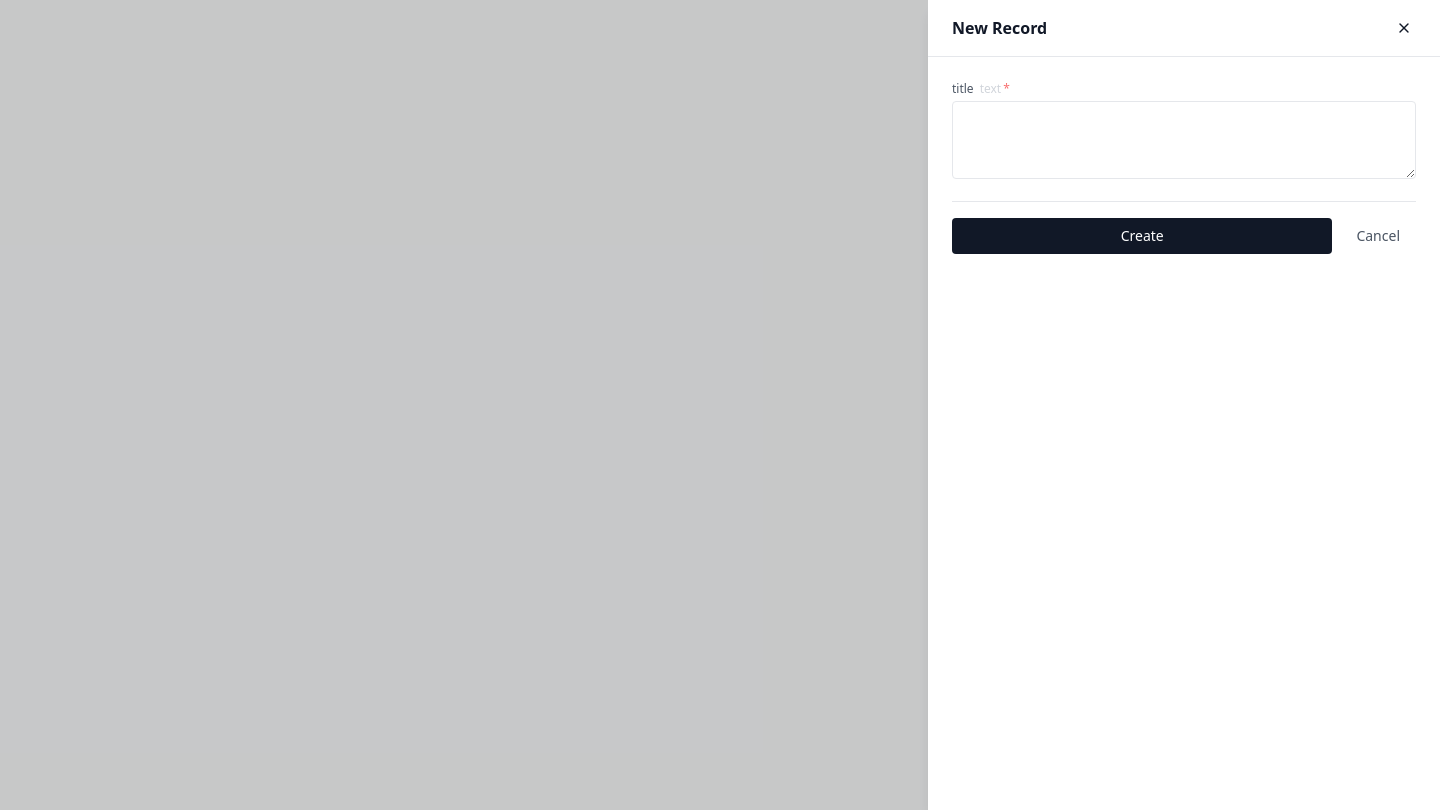
RecordForm › shows error on submit failure
The width and height of the screenshot is (1440, 810).
Type "test" into the text box labelled "titletext*" at (1184, 140), box x1=952 y1=101 x2=1416 y2=179
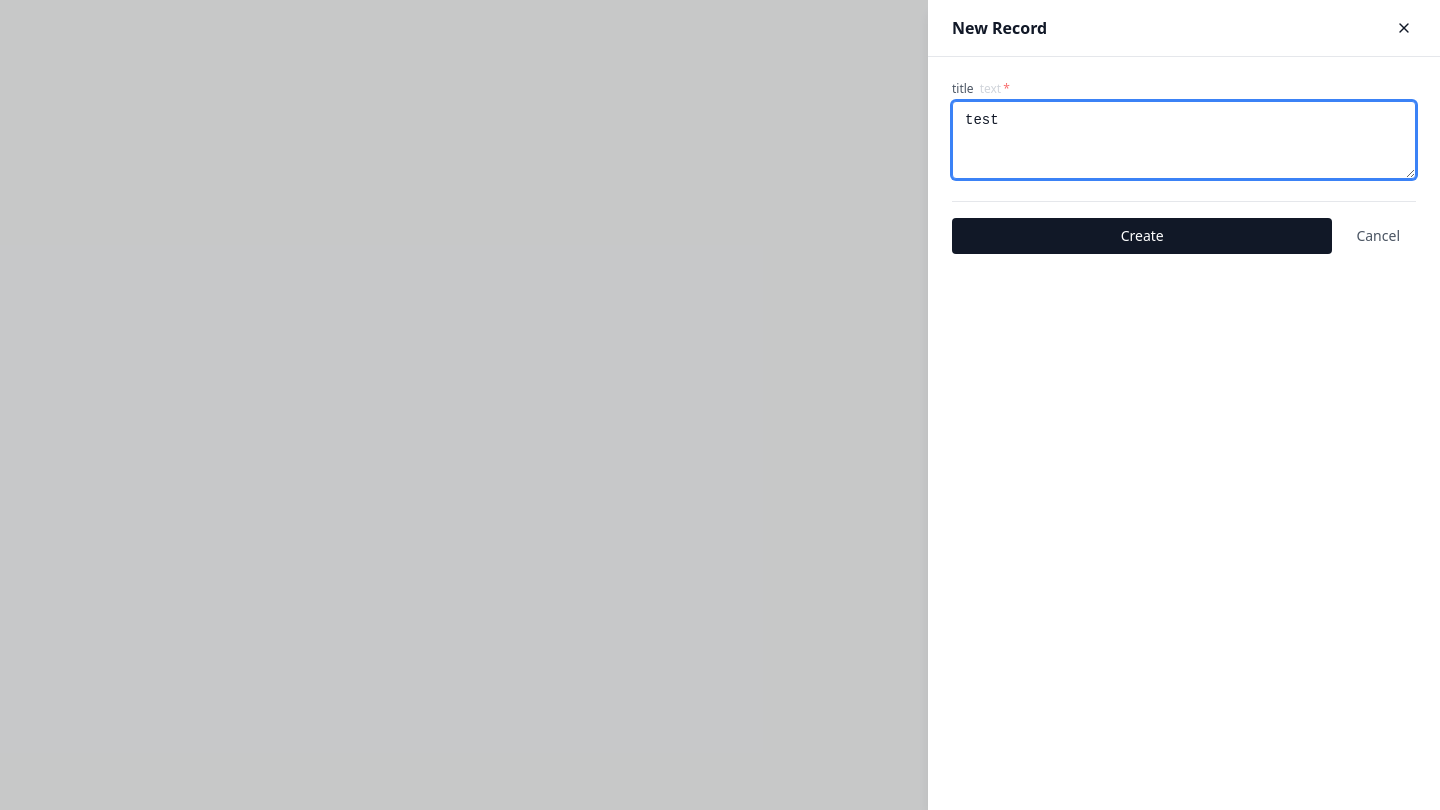
Click the button "Create" at (1142, 236), box x1=952 y1=218 x2=1332 y2=254
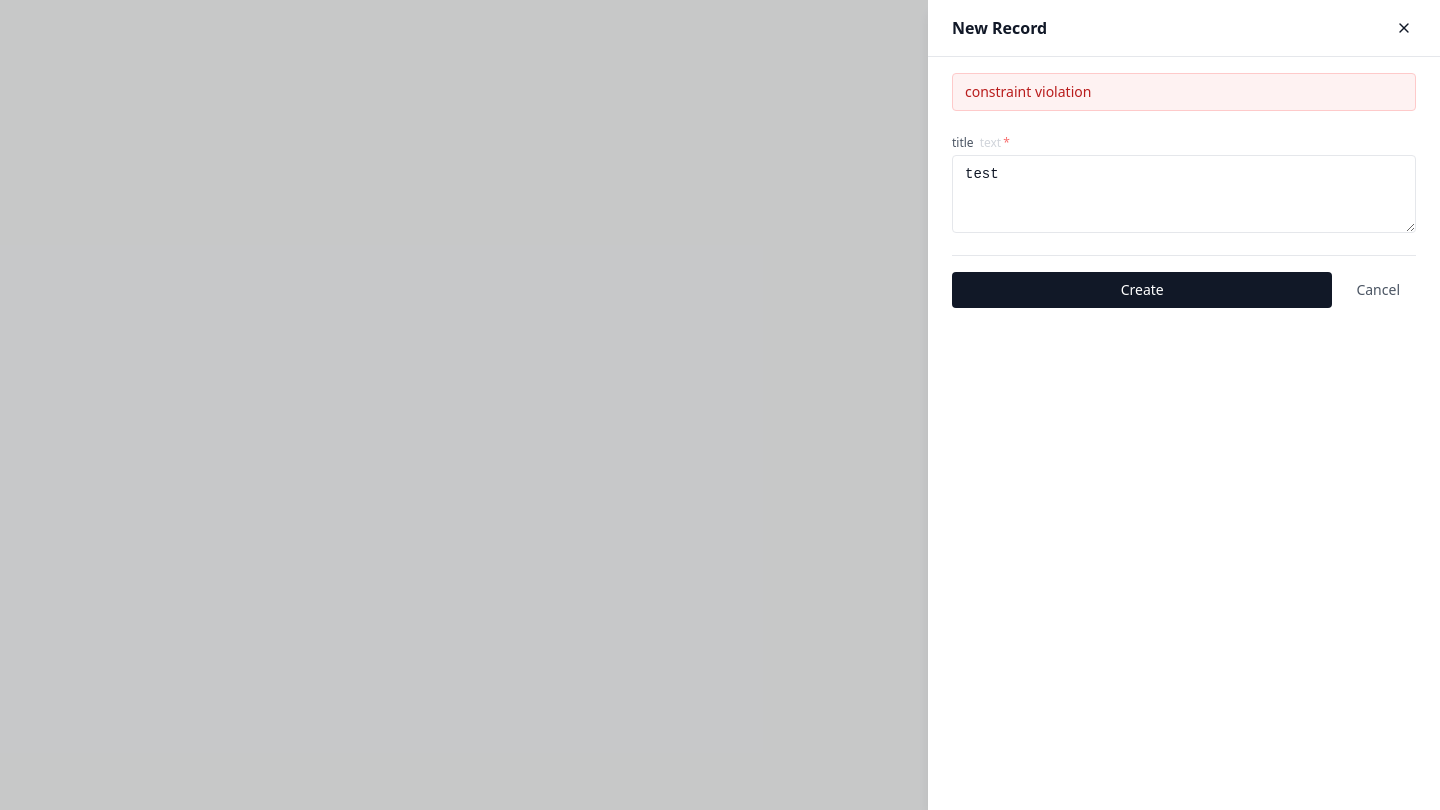
Expected: the text "constraint violation" is shown, x1=952 y1=73 x2=1416 y2=111
